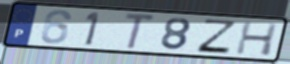1: (84, 11, 102, 47)
6: (39, 9, 73, 45)
8: (160, 17, 193, 51)
H: (234, 20, 281, 57)
T: (123, 11, 158, 51)
Z: (195, 18, 239, 55)
